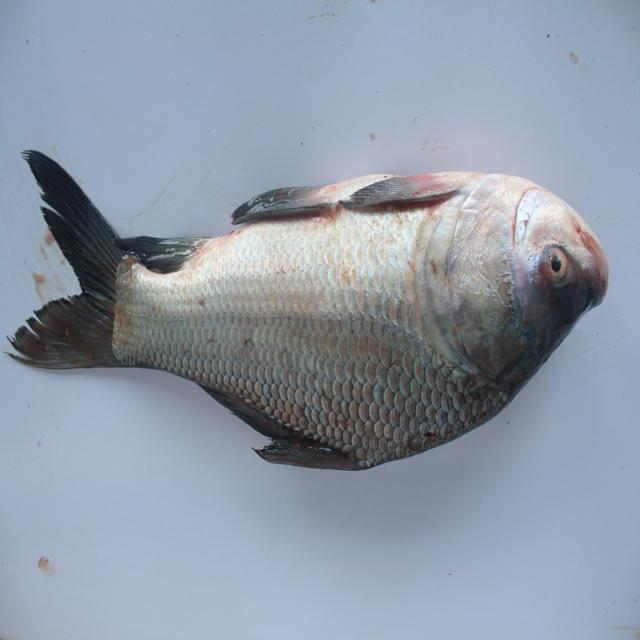Catla: (14, 134, 615, 499)
